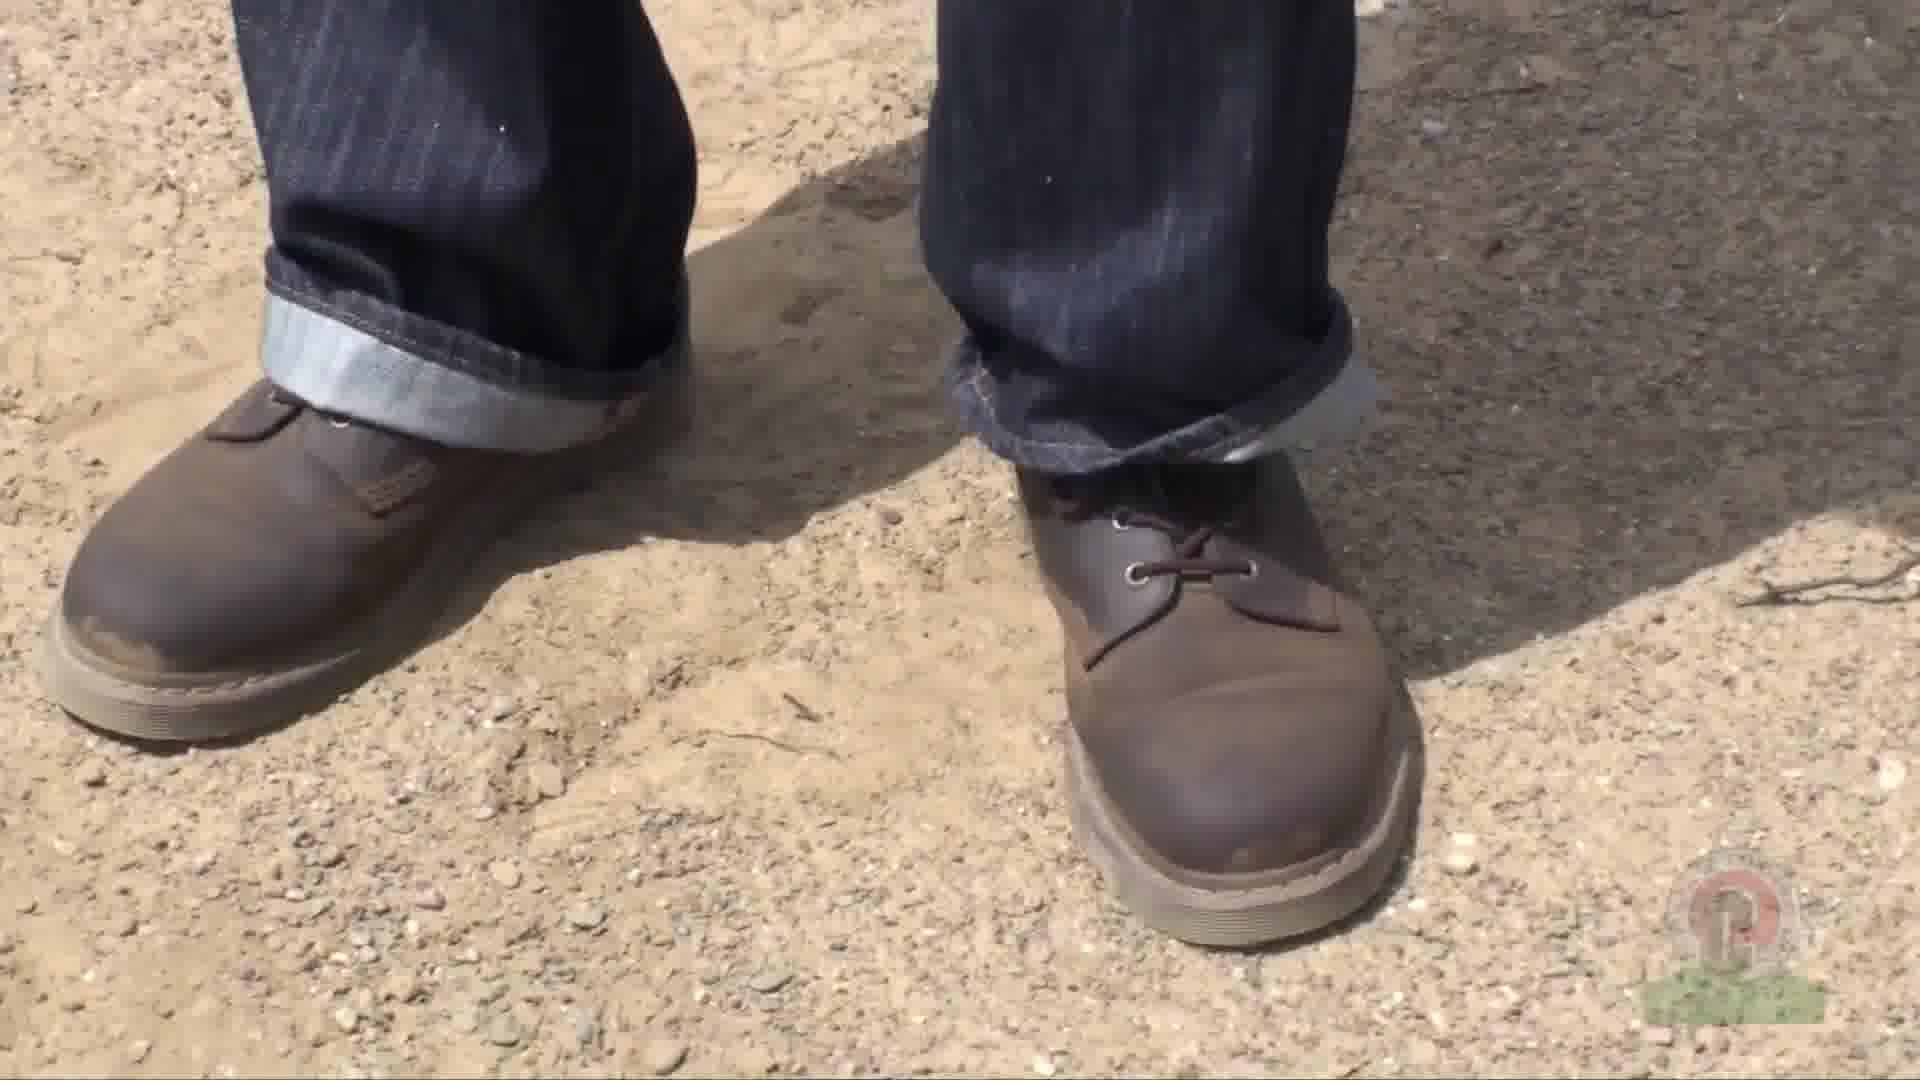safety boot: (7, 278, 1422, 1075)
